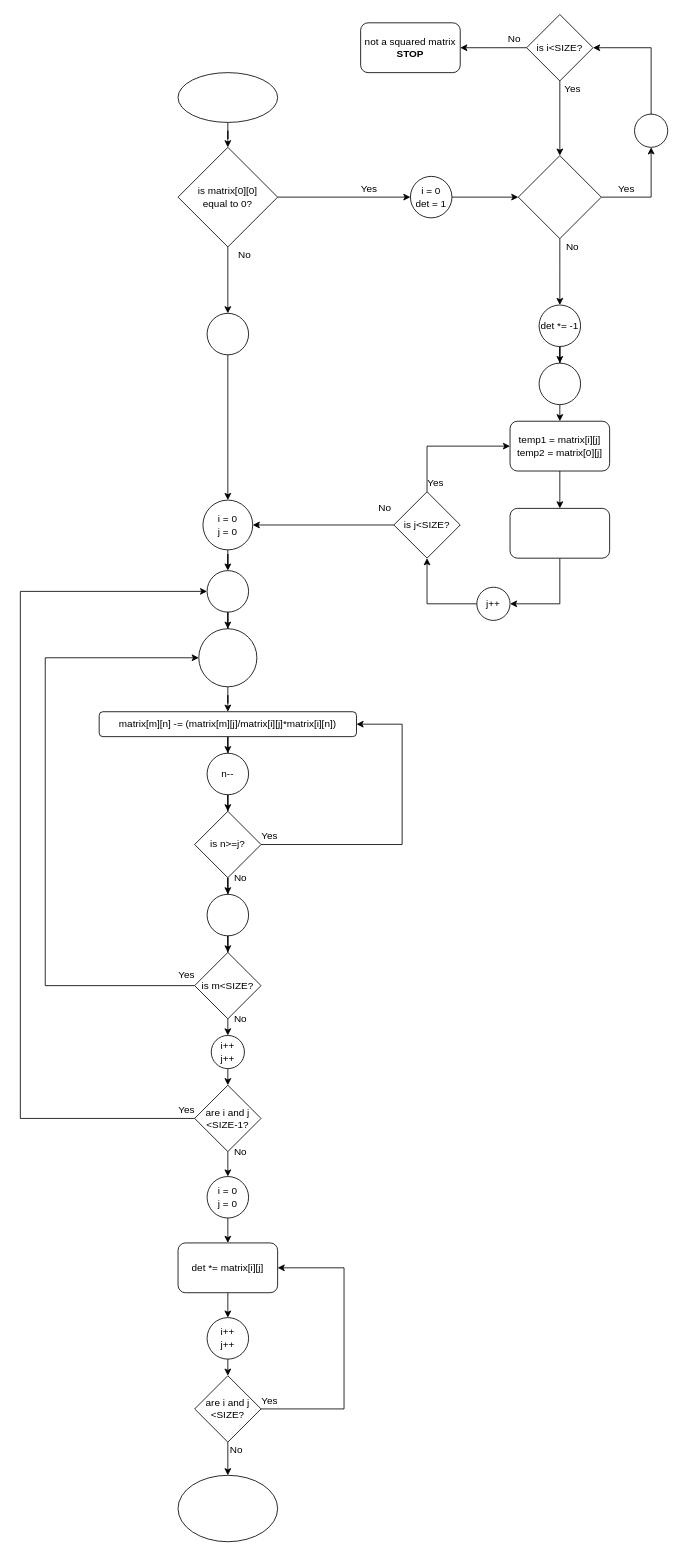
Image size: 682x1556. Some labels were removed from this diagram. The centre of each missing label's shape, as x and y in pixels:
"det = 1" belongs at [227,333].
"END" belongs at [227,1508].
"i++" belongs at [651,130].
"is matrix[i][0] equal to 0?" belongs at [559,197].
"j = 0" belongs at [559,383].
"m = i + 1" belongs at [227,591].
"m++" belongs at [227,914].
"matrix[0][j] = temp1 matrix[i][j] = temp2" belongs at [559,533].
"n = SIZE -1" belongs at [227,657].
"START" belongs at [227,97].
